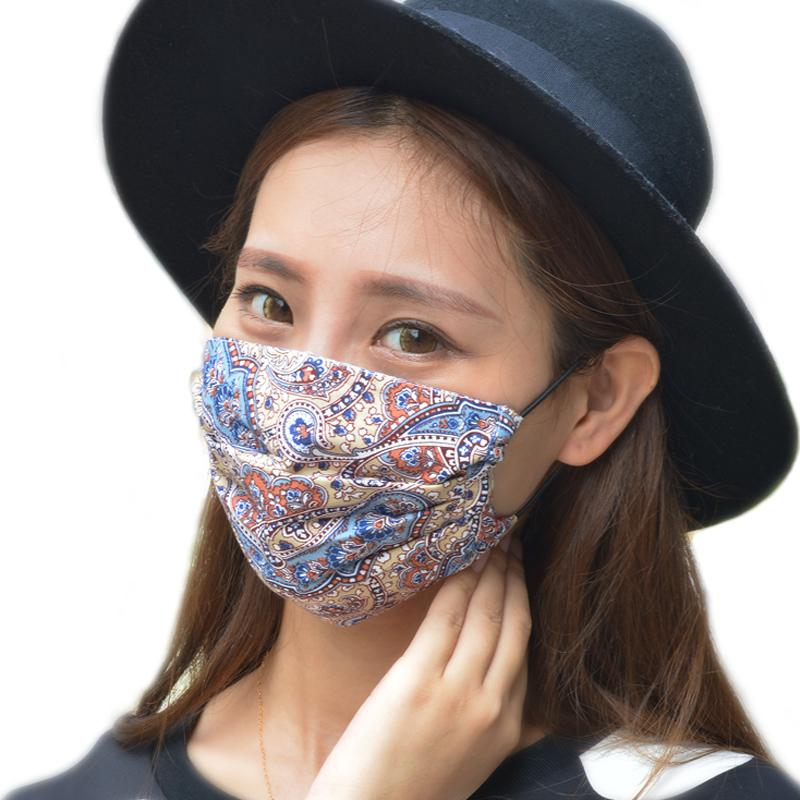OK: (191, 225, 564, 598)
